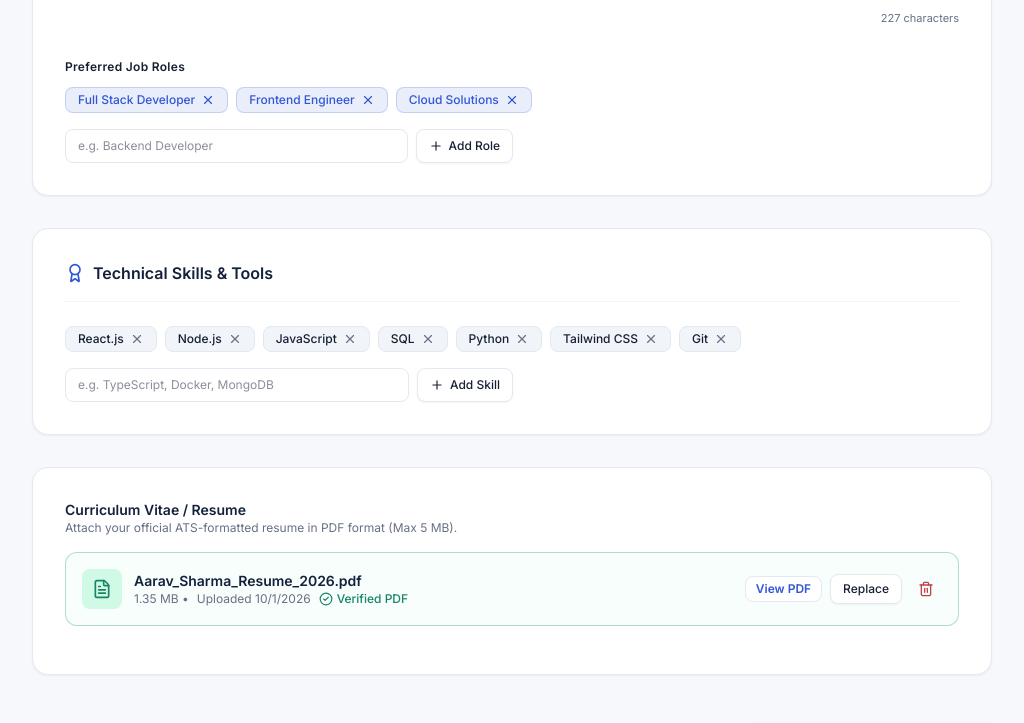
Test: StudentProfile Component Tests › allows adding and displaying a new technical skill chip
(page scrolled)
In the field with placeholder "e.g. TypeScript, Docker, MongoDB": [237, 384] box [65, 368, 409, 402], type "Docker"
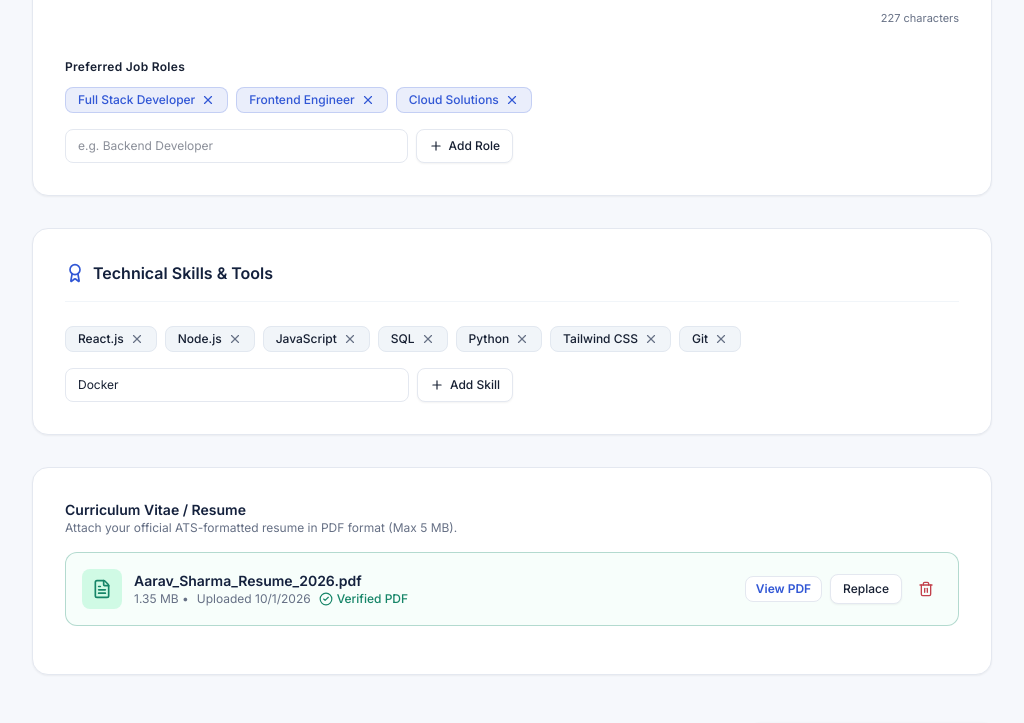
Click the button "Add Skill": [465, 384] box [417, 368, 513, 402]
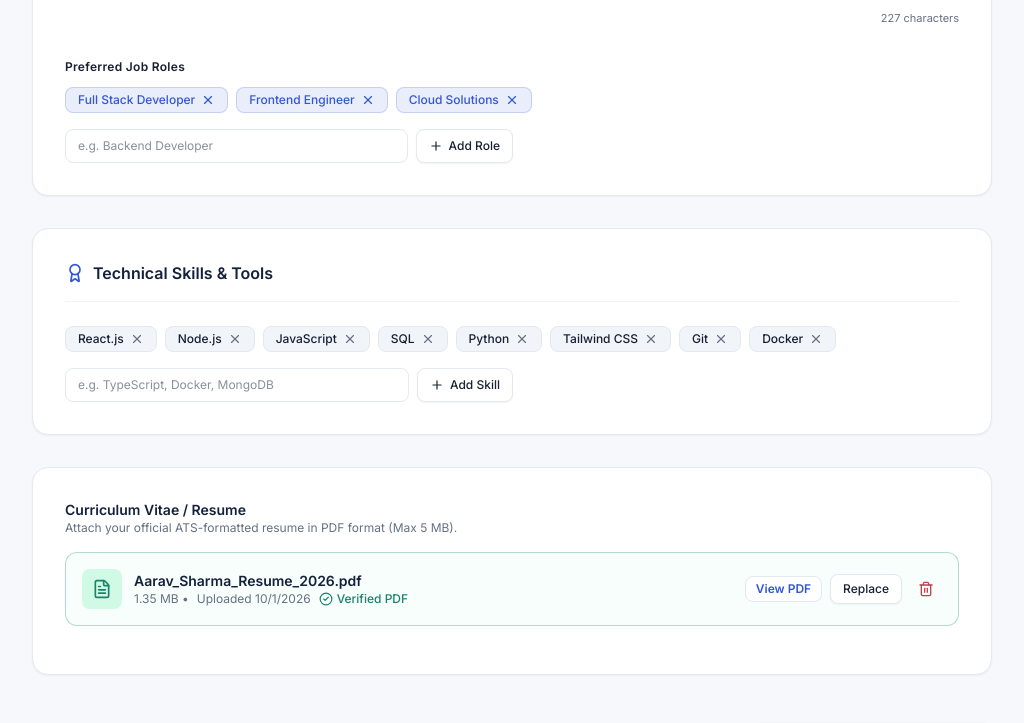
Expected: the text "Docker" is shown, [762, 330, 803, 346]
